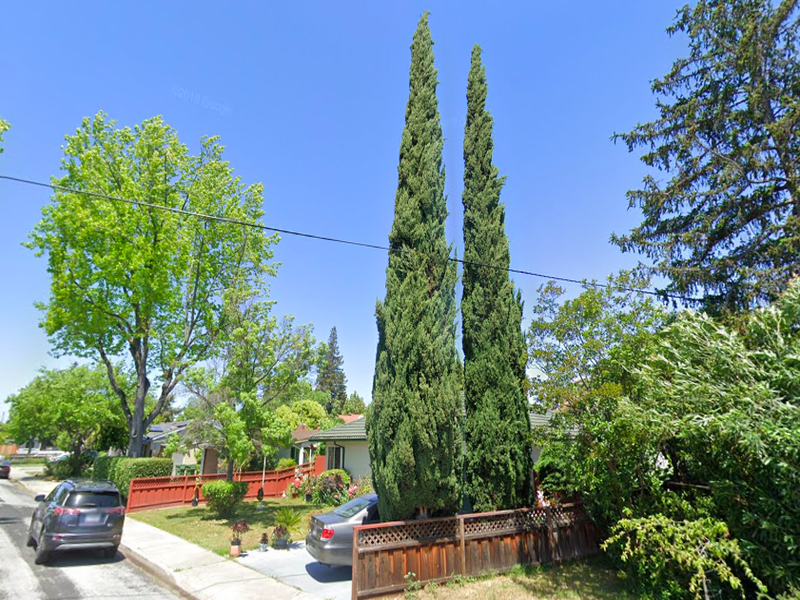tree: (19, 107, 279, 460), (363, 8, 462, 524), (457, 44, 535, 515)
